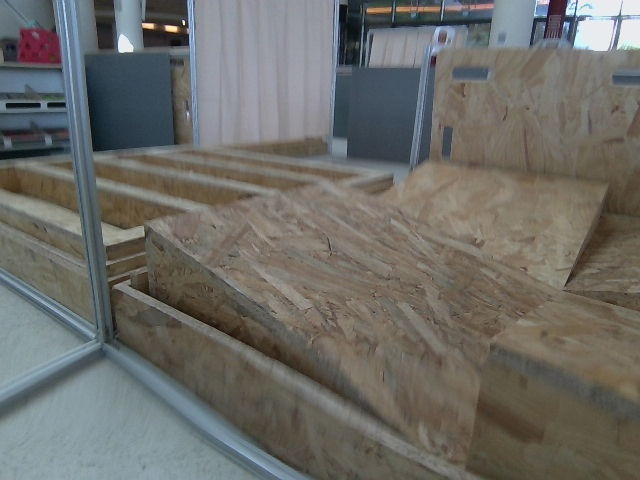curtain: (179, 0, 333, 130)
